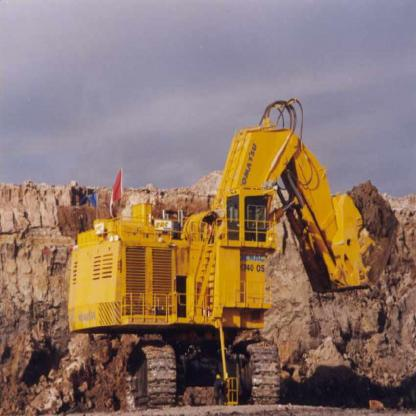excavator: (57, 93, 405, 406)
